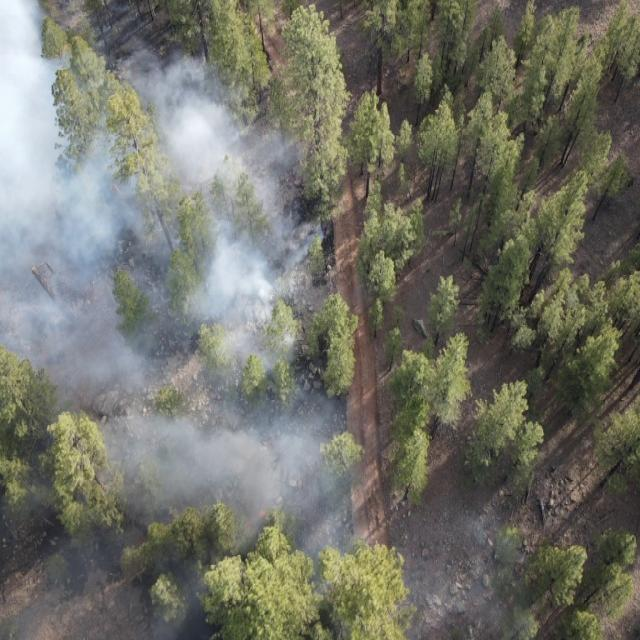fire: (244, 506, 270, 529)
smoke: (0, 335, 366, 640), (0, 0, 325, 332)
